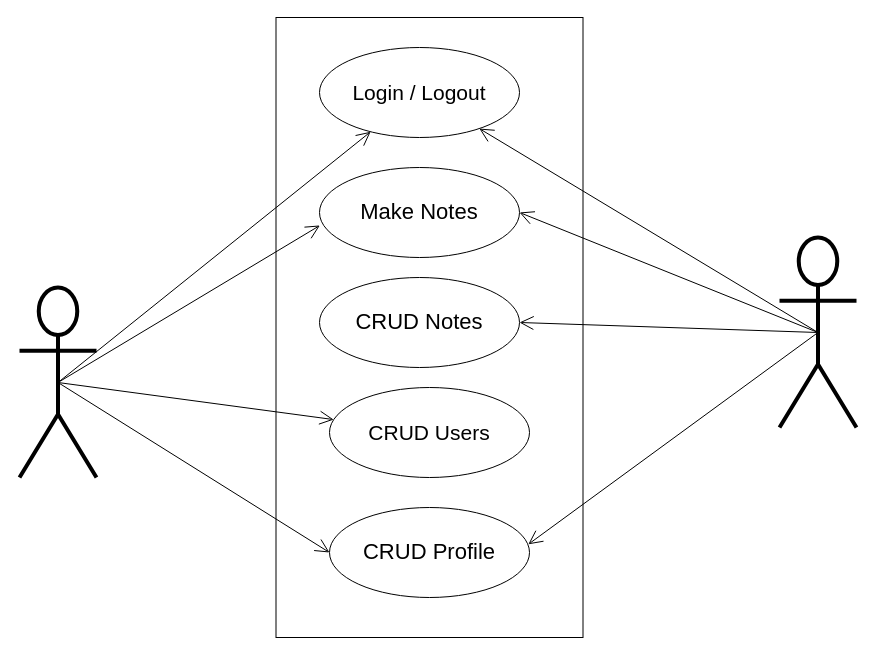
Some shapes in this 875 by 655 pixel diagram are drawn without their labels. Each missing label, with the centre of its shape:
Admin: the point at 57,382
Users: the point at 817,332
